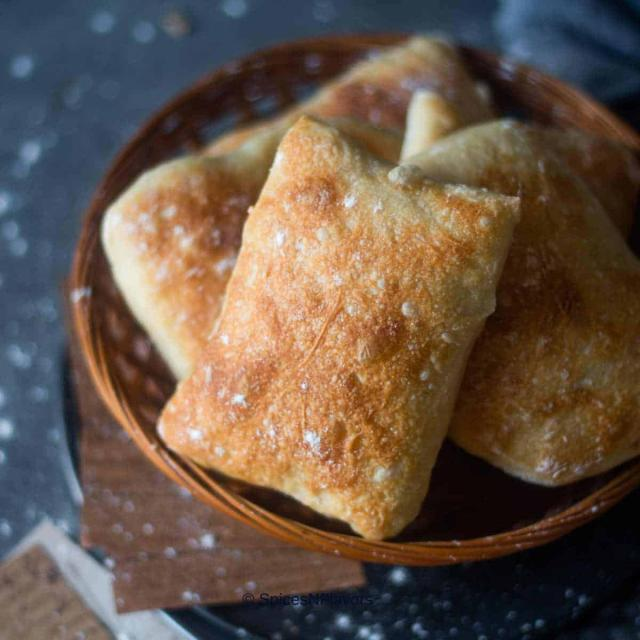Ciabatta: (158, 119, 519, 540), (101, 36, 493, 380), (393, 122, 639, 485)
